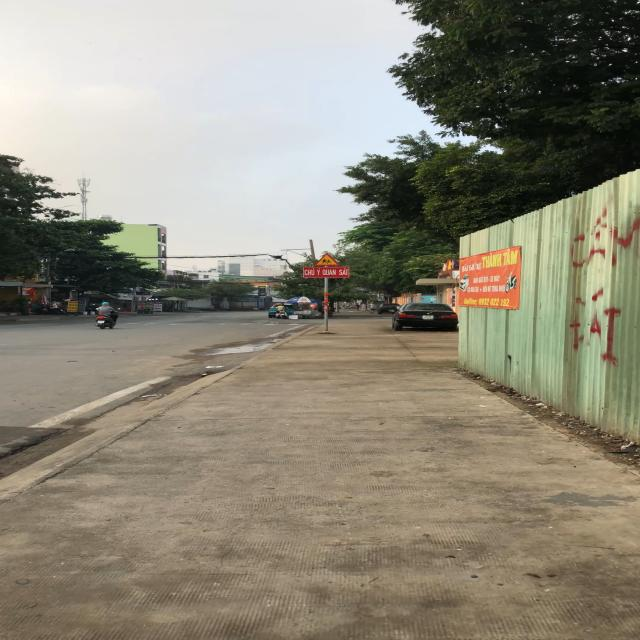Bien bao tre em: (312, 250, 342, 266)
